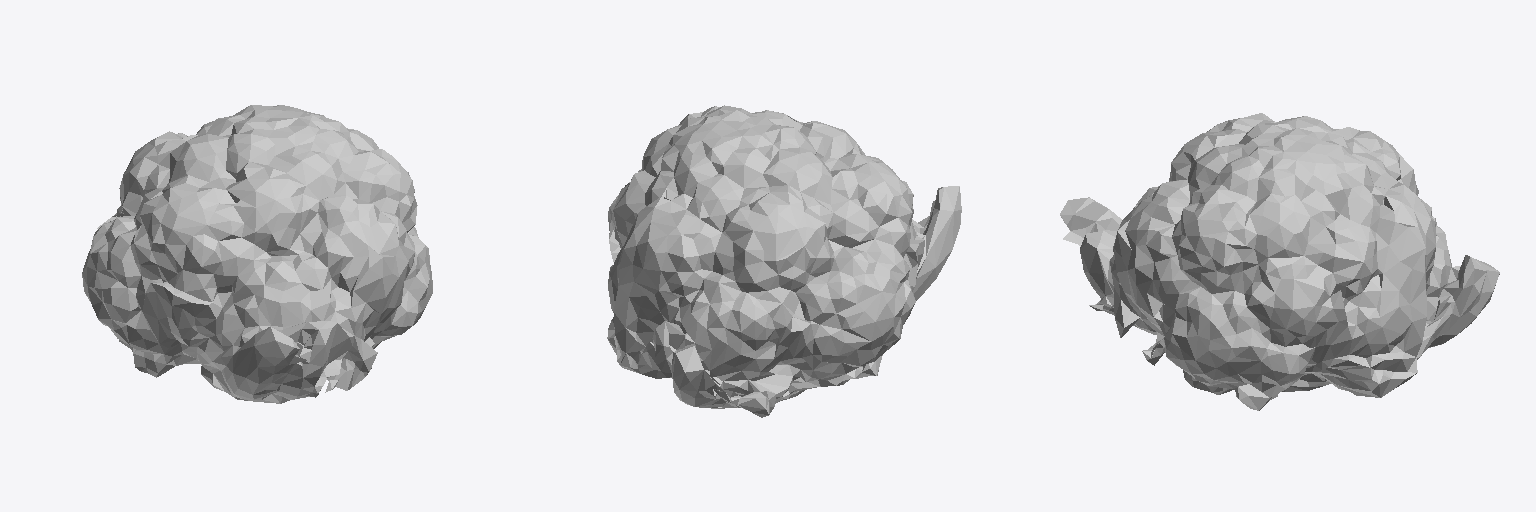
File: Cauliflower Low Poly.obj
The picture shows the model from 3 angles: view 1: azimuth 30°, elevation 25°; view 2: azimuth 150°, elevation 25°; view 3: azimuth 270°, elevation 25°; orthographic projection.
Visible parts, largest first — view 1: Mesh_Cauliflower_Low_Poly; view 2: Mesh_Cauliflower_Low_Poly; view 3: Mesh_Cauliflower_Low_Poly.
Boxes of the visible parts, box(x1,y1,x2,y2) form: Mesh_Cauliflower_Low_Poly: box(82, 105, 432, 403); Mesh_Cauliflower_Low_Poly: box(607, 105, 961, 417); Mesh_Cauliflower_Low_Poly: box(1060, 113, 1499, 410).
Bounding box in the file's own units: 5.77 × 4.8 × 7.42.